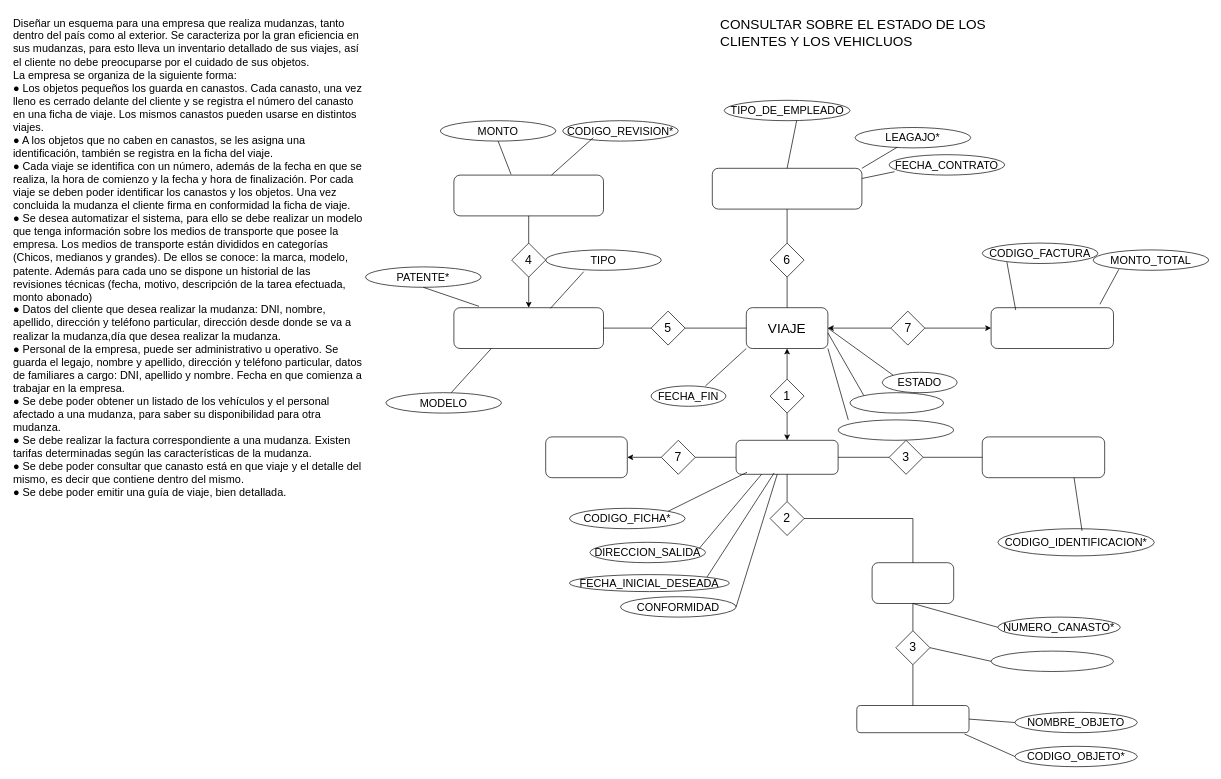
This 1221x779 diagram has some shape labels left out. The shapes that lost their labels are listed below. From the top down, each one's centre as x and y in pixels, then its label:
point 528,195: REVISION_TECNICA
point 787,188: EMPLEADO
point 528,327: MEDIO_TRANSPORTE
point 1052,327: FACTURA
point 896,402: FECHA_SALIDA
point 895,429: NUMERO_VIAJE*
point 586,457: CLIENTE
point 786,457: FICHA_VIAJE
point 1043,457: OBJETO_SUELTO
point 912,583: CANASTO
point 1052,661: CANTIDAD
point 912,719: OBJETO
